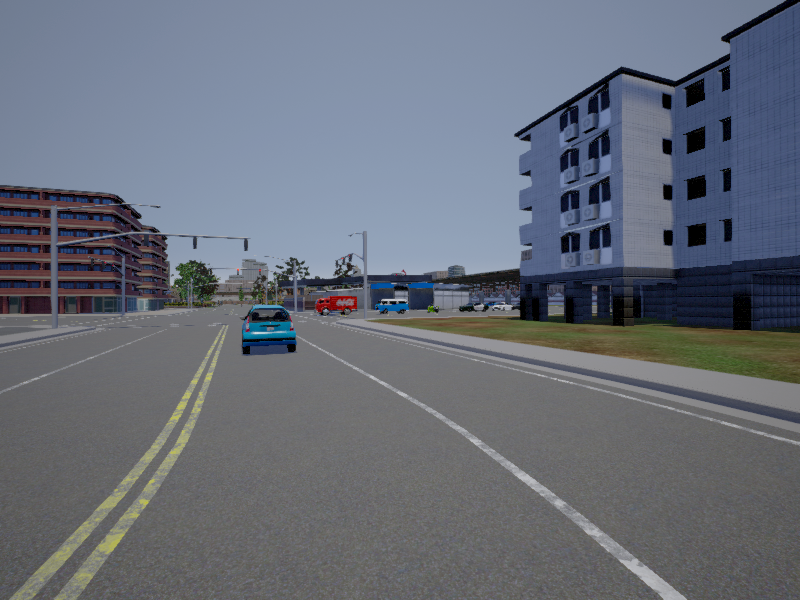Benign: (243, 306, 300, 353), (315, 296, 357, 316), (376, 299, 410, 316), (460, 303, 489, 314)
